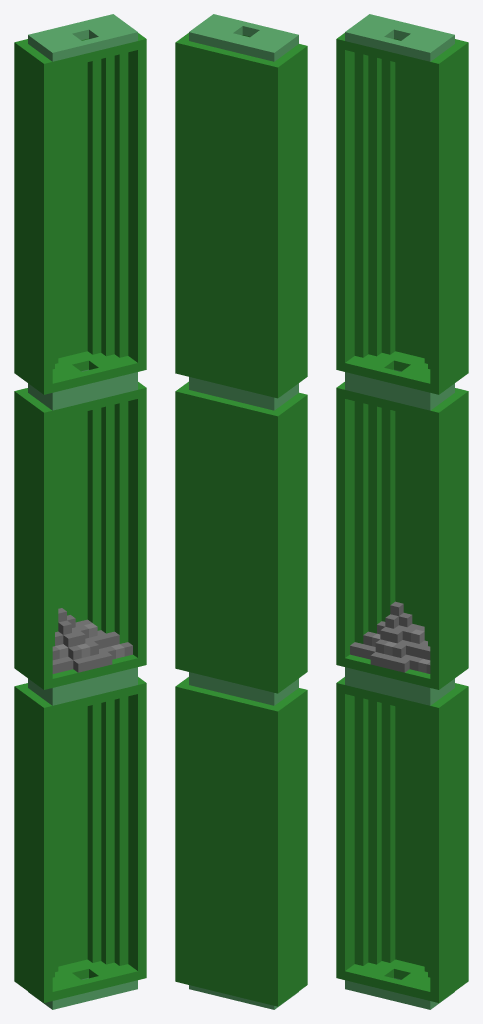
File: bamboo_0,2,0.obj
The picture shows the model from 3 angles, left to right: view 1: azimuth 30°, elevation 25°; view 2: azimuth 150°, elevation 25°; view 3: azimuth 330°, elevation 25°; orthographic projection.
Bounding box in the file's own units: 1.2 × 10.7 × 0.6.
1 material, 1 textured.
